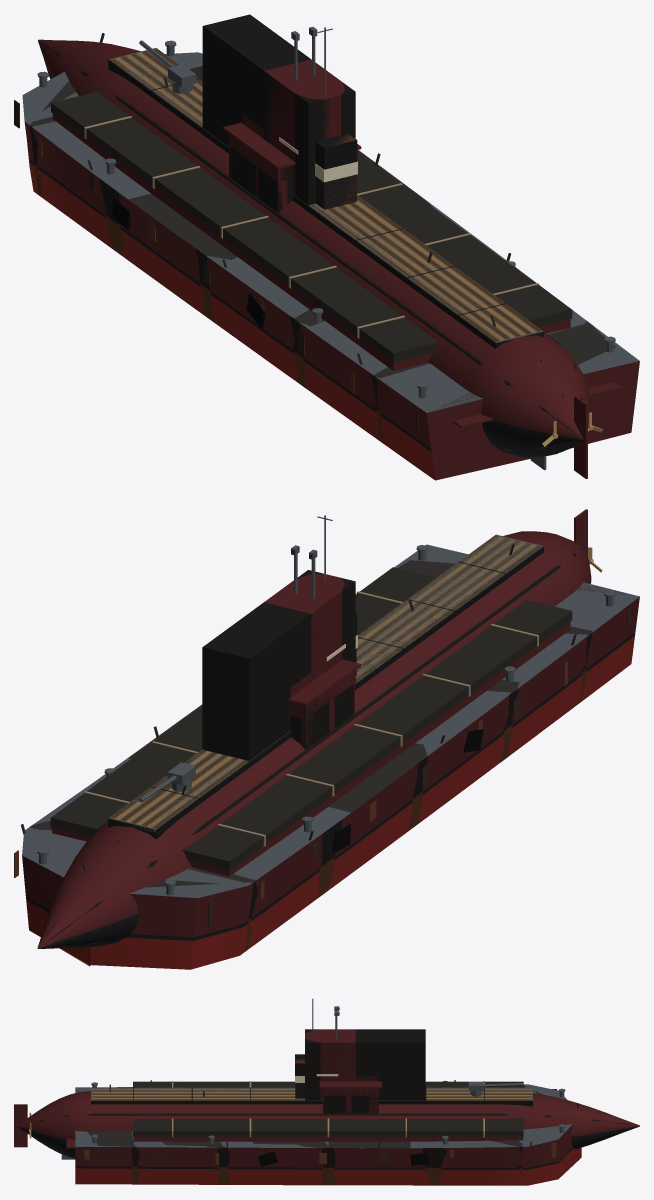
Rendered from boats.1f47b937.glb.
3 renders of one model, top to bottom at view 1: azimuth 30°, elevation 25°; view 2: azimuth 150°, elevation 25°; view 3: azimuth 270°, elevation 25°, orthographic. The views are drawn at different scales.
Visible parts, largest first — view 1: barge_lod0, sub_lod0, sub_wreck, barge_wreck, tug_lod0, tug_wreck, rudder; view 2: barge_lod0, sub_lod0, sub_wreck, barge_wreck, tug_lod0, tug_wreck; view 3: barge_lod0, sub_lod0, sub_wreck, barge_wreck, tug_lod0, tug_wreck, rudder.
Boxes of the visible parts, box(x1,y1,x2,y2) form: barge_lod0: box(14, 40, 639, 480); sub_lod0: box(38, 27, 620, 457); sub_wreck: box(39, 14, 582, 451); barge_wreck: box(29, 81, 615, 443); tug_lod0: box(223, 122, 361, 213); tug_wreck: box(229, 135, 356, 212); rudder: box(574, 396, 587, 478); barge_lod0: box(14, 544, 639, 969); sub_lod0: box(37, 515, 591, 948); sub_wreck: box(39, 532, 590, 948); barge_wreck: box(21, 545, 634, 951); tug_lod0: box(288, 613, 360, 749); tug_wreck: box(290, 650, 356, 749); barge_lod0: box(75, 1080, 581, 1185); sub_lod0: box(17, 998, 639, 1158); sub_wreck: box(19, 1029, 637, 1155); barge_wreck: box(75, 1080, 542, 1185); tug_lod0: box(295, 1054, 381, 1113); tug_wreck: box(295, 1059, 378, 1113); rudder: box(14, 1104, 27, 1147).
Size of what is drawn, in the model's own units: 7.63 by 9.1 by 32.15.
Materials: 1 (1 with a texture image).
